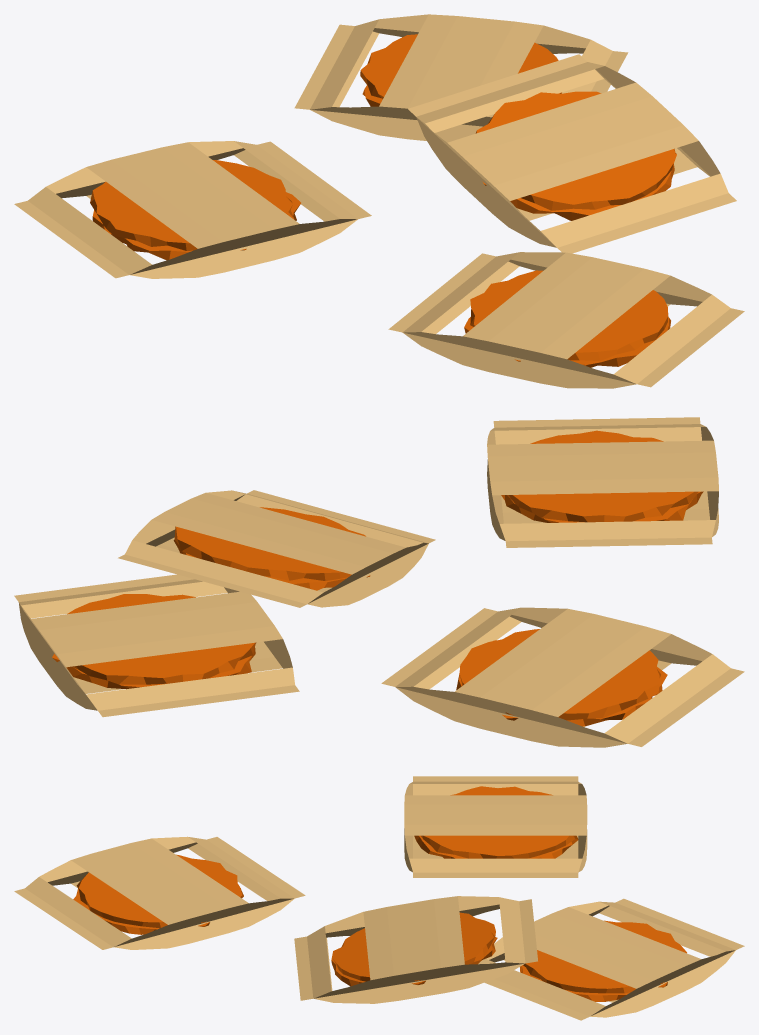
The model's file is snack-4.gltf.
The picture shows the model from 3 angles, top to bottom: view 1: azimuth 30°, elevation 25°; view 2: azimuth 150°, elevation 25°; view 3: azimuth 270°, elevation 25°; orthographic projection. The views are drawn at different scales.
Parts seen in each view (by area): view 1: snack1; view 2: snack1; view 3: snack1.
Part boxes in pixels (x1,y1,x2,y2): snack1: (14,14,744,388); snack1: (14,417,744,747); snack1: (14,776,744,1020).
Size of the model in its own units: 1.72 by 0.1478 by 2.17.
